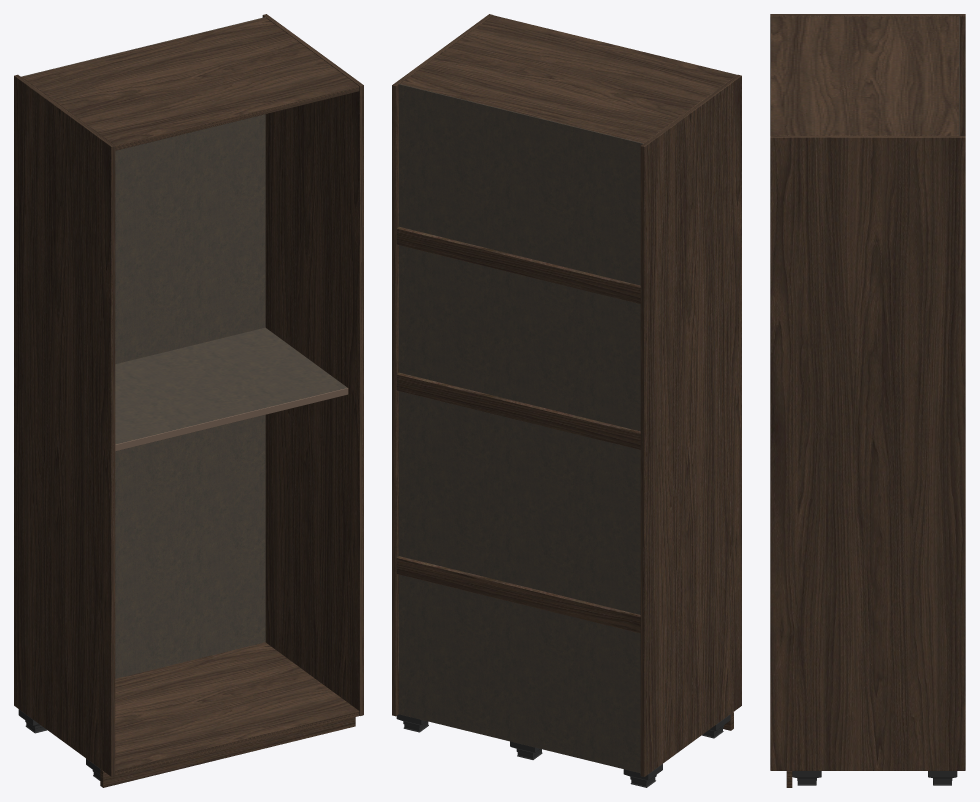
3 views of the same model, side by side, from view 1: azimuth 30°, elevation 25°; view 2: azimuth 150°, elevation 25°; view 3: azimuth 270°, elevation 25° (orthographic).
Visible parts, largest first — view 1: HK1001047; view 2: HK1001047; view 3: HK1001047.
Part boxes in pixels (bbox=[...]): HK1001047: bbox=[14, 14, 363, 787]; HK1001047: bbox=[392, 14, 741, 787]; HK1001047: bbox=[770, 14, 965, 787].
Size of the model in its own units: 0.9 by 2.2 by 0.6.
7 materials, 6 textured.
